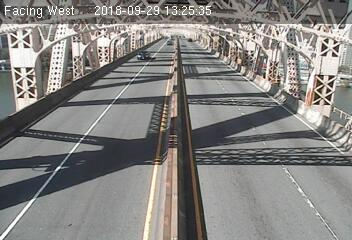car: (133, 49, 151, 60), (165, 40, 174, 48), (185, 35, 192, 42)
